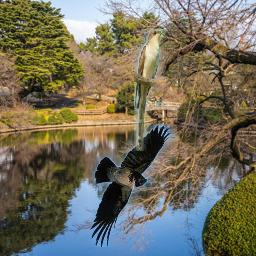Crow: (91, 125, 176, 248)
Cuckoo: (134, 29, 166, 151)
